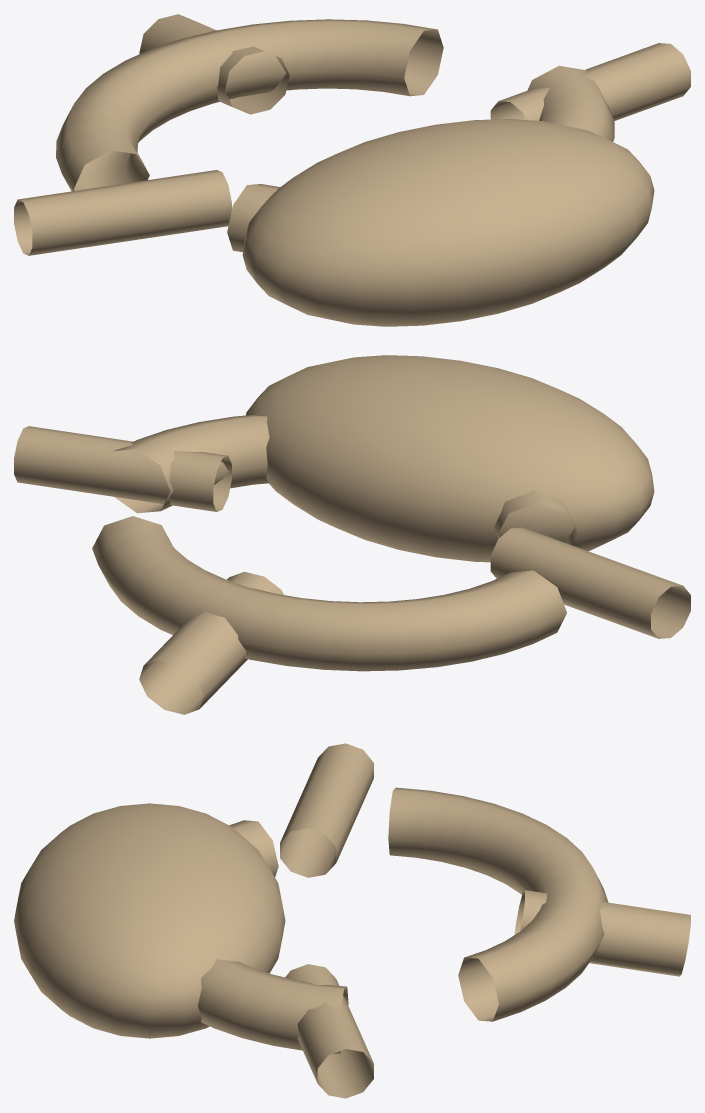
3 views of the same model, one above another, from view 1: azimuth 30°, elevation 25°; view 2: azimuth 150°, elevation 25°; view 3: azimuth 270°, elevation 25° (orthographic). The views are drawn at different scales.
Parts seen in each view (by area): view 1: t8:centrum, t8:neural-arch--1, t8:transverse--1, t8:transverse-1, t8:neural-arch-1, t8:spinous-process; view 2: t8:centrum, t8:neural-arch--1, t8:transverse-1, t8:transverse--1, t8:spinous-process, t8:neural-arch-1; view 3: t8:centrum, t8:neural-arch--1, t8:neural-arch-1, t8:transverse--1, t8:spinous-process, t8:transverse-1.
Part boxes in pixels (x1,y1,x2,y2): t8:centrum: [242, 119, 654, 326]; t8:neural-arch--1: [56, 19, 443, 191]; t8:transverse--1: [14, 170, 231, 255]; t8:transverse-1: [490, 43, 690, 120]; t8:neural-arch-1: [227, 65, 614, 252]; t8:spinous-process: [139, 14, 289, 114]; t8:centrum: [245, 355, 654, 562]; t8:neural-arch--1: [92, 516, 566, 671]; t8:transverse-1: [14, 426, 231, 511]; t8:transverse--1: [490, 527, 690, 638]; t8:spinous-process: [139, 571, 283, 714]; t8:neural-arch-1: [113, 415, 578, 545]; t8:centrum: [14, 803, 285, 1038]; t8:neural-arch--1: [388, 787, 608, 1021]; t8:neural-arch-1: [198, 820, 348, 1053]; t8:transverse--1: [280, 743, 373, 877]; t8:spinous-process: [514, 890, 690, 976]; t8:transverse-1: [285, 964, 373, 1098].
Bounding box in the file's own units: 0.171 × 0.0383 × 0.1575.
